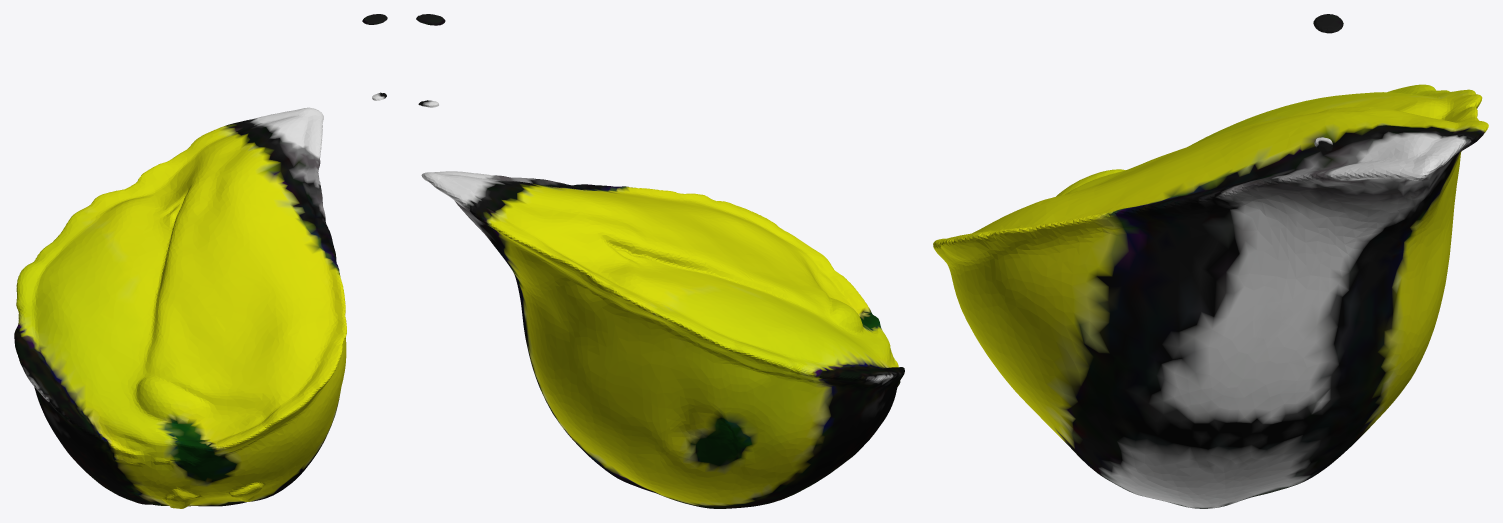
Rendered from pear.glb.
The picture shows the model from 3 angles, left to right: view 1: azimuth 30°, elevation 25°; view 2: azimuth 150°, elevation 25°; view 3: azimuth 270°, elevation 25°; orthographic projection. The views are drawn at different scales.
Parts seen in each view (by area): view 1: geometry_0; view 2: geometry_0; view 3: geometry_0.
Part boxes in pixels (left/top/right/bottom): geometry_0: left=14, top=14, right=387, bottom=508; geometry_0: left=416, top=14, right=904, bottom=508; geometry_0: left=933, top=14, right=1488, bottom=508.
Size of the model in its own units: 0.4669 by 0.4688 by 0.3809.
